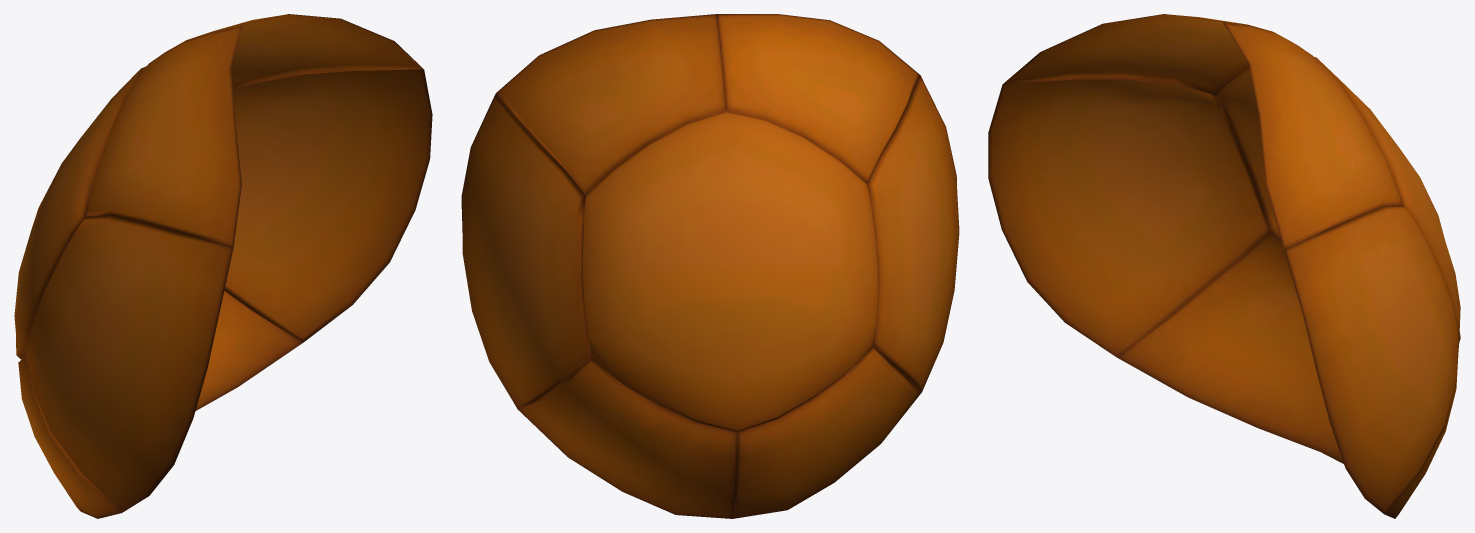
File: object_4_lev1_lev2.glb
3 views of the same model, side by side, from view 1: azimuth 30°, elevation 25°; view 2: azimuth 150°, elevation 25°; view 3: azimuth 270°, elevation 25° (orthographic). The views are drawn at different scales.
Visible parts, largest first — view 1: object_4_lev1_lev2; view 2: object_4_lev1_lev2; view 3: object_4_lev1_lev2.
Part boxes in pixels (box(x1,y1,x2,y2)): object_4_lev1_lev2: box(14, 14, 432, 518); object_4_lev1_lev2: box(461, 14, 959, 518); object_4_lev1_lev2: box(988, 14, 1460, 518).
Size of the model in its own units: 2.16 by 2.28 by 1.97.
1 material, 1 textured.
